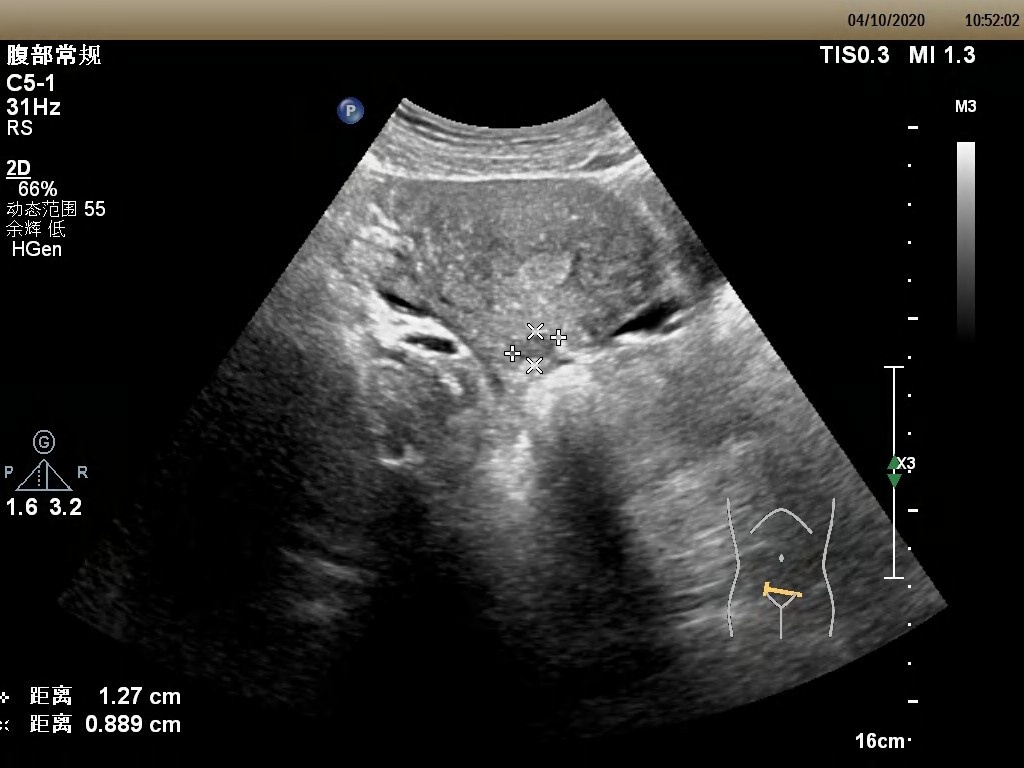肌瘤: (514, 331, 556, 360)
